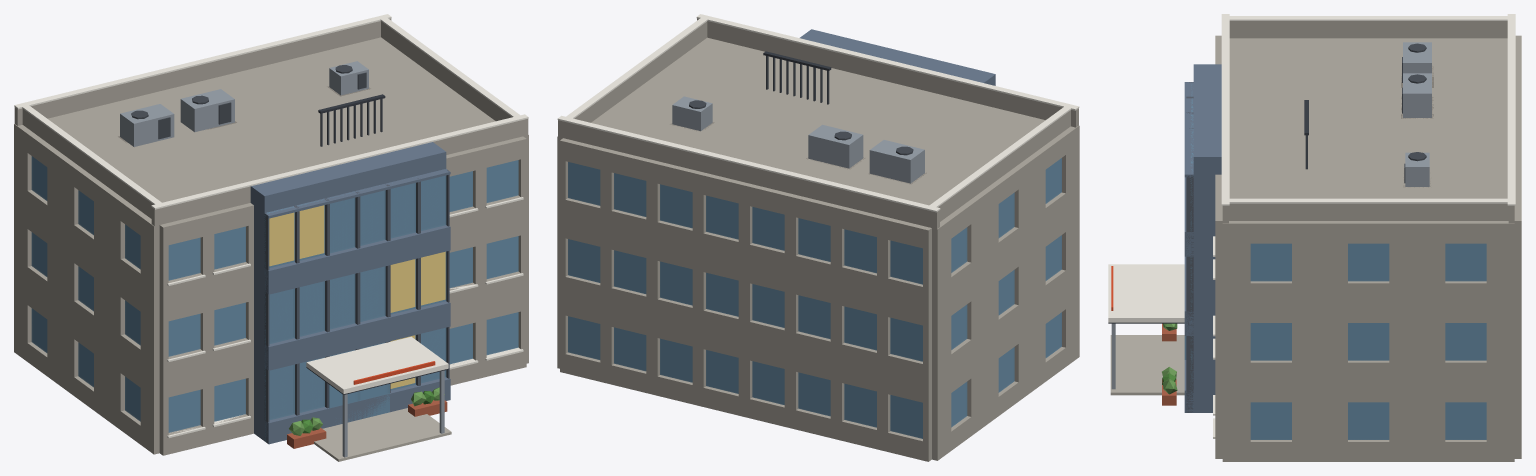
Rendered from BUILDING_08.obj.
3 views of the same model, side by side, from view 1: azimuth 30°, elevation 25°; view 2: azimuth 150°, elevation 25°; view 3: azimuth 270°, elevation 25° (orthographic). The views are drawn at different scales.
Visible parts, largest first — view 1: walls_core, walls_floor02, roof, walls_floor01, facade_floor00, walls_floor00, facade_floor02, facade_floor01, windows_floor00, windows_floor01, windows_floor02, canopies (+7 smaller); view 2: walls_floor02, walls_core, walls_floor01, roof, walls_floor00, windows_floor01, windows_floor02, windows_floor00, roof_equipment, roof_screen; view 3: walls_core, walls_floor02, walls_floor01, roof, walls_floor00, center_volume, windows_floor02, windows_floor01, windows_floor00, canopies, steps, roof_equipment (+4 smaller).
Part boxes in pixels (x1=…): walls_core: x1=48, y1=37, x2=495, y2=202; walls_floor02: x1=14, y1=124, x2=528, y2=322; roof: x1=14, y1=14, x2=528, y2=226; walls_floor01: x1=14, y1=219, x2=528, y2=398; facade_floor00: x1=264, y1=175, x2=450, y2=444; walls_floor00: x1=14, y1=295, x2=528, y2=455; facade_floor02: x1=264, y1=169, x2=450, y2=294; facade_floor01: x1=264, y1=251, x2=450, y2=370; windows_floor00: x1=31, y1=308, x2=523, y2=438; windows_floor01: x1=31, y1=232, x2=523, y2=362; windows_floor02: x1=31, y1=156, x2=523, y2=285; canopies: x1=306, y1=336, x2=448, y2=457; walls_floor02: x1=557, y1=125, x2=1079, y2=326; walls_core: x1=591, y1=37, x2=1045, y2=205; walls_floor01: x1=557, y1=222, x2=1079, y2=403; roof: x1=557, y1=14, x2=1079, y2=229; walls_floor00: x1=557, y1=299, x2=1079, y2=461; windows_floor01: x1=568, y1=235, x2=1061, y2=361; windows_floor02: x1=568, y1=158, x2=1061, y2=284; windows_floor00: x1=568, y1=312, x2=1061, y2=438; roof_equipment: x1=670, y1=96, x2=926, y2=184; roof_screen: x1=763, y1=51, x2=831, y2=104; walls_core: x1=1229, y1=38, x2=1507, y2=198; walls_floor02: x1=1215, y1=35, x2=1521, y2=322; walls_floor01: x1=1215, y1=320, x2=1521, y2=402; roof: x1=1193, y1=14, x2=1515, y2=223; walls_floor00: x1=1215, y1=399, x2=1521, y2=461; center_volume: x1=1193, y1=174, x2=1215, y2=412; windows_floor02: x1=1213, y1=236, x2=1486, y2=281; windows_floor01: x1=1213, y1=315, x2=1486, y2=360; windows_floor00: x1=1213, y1=395, x2=1486, y2=439; canopies: x1=1108, y1=264, x2=1184, y2=389; steps: x1=1110, y1=335, x2=1184, y2=395; roof_equipment: x1=1401, y1=42, x2=1433, y2=187.
Size of the model in its own units: 18.56 by 12.5 by 16.98.
